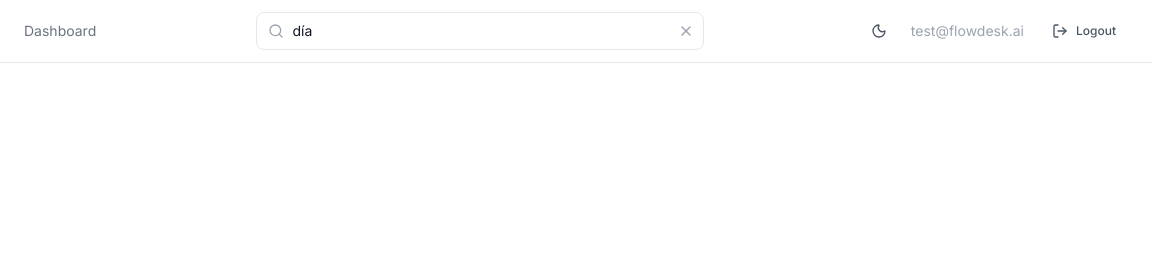
Test: Header › closes dropdown on Escape
Focus the field named "Buscar en el inbox" at {"x": 480, "y": 31}, box x1=256 y1=12 x2=704 y2=50
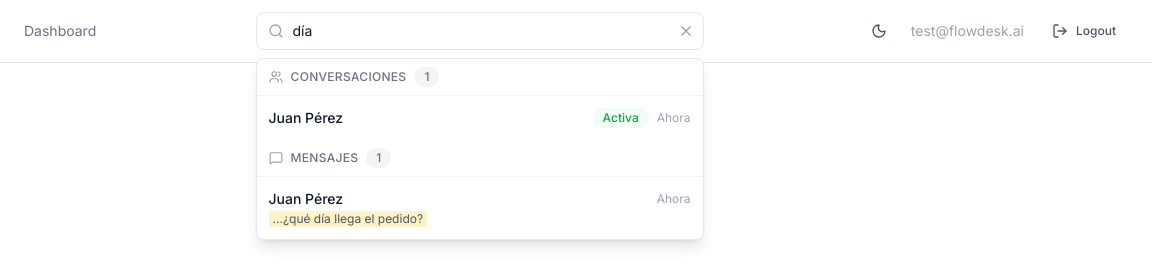
Now the list is shown, box x1=256 y1=58 x2=704 y2=240
Press Escape in the field named "Buscar en el inbox", box x1=256 y1=12 x2=704 y2=50
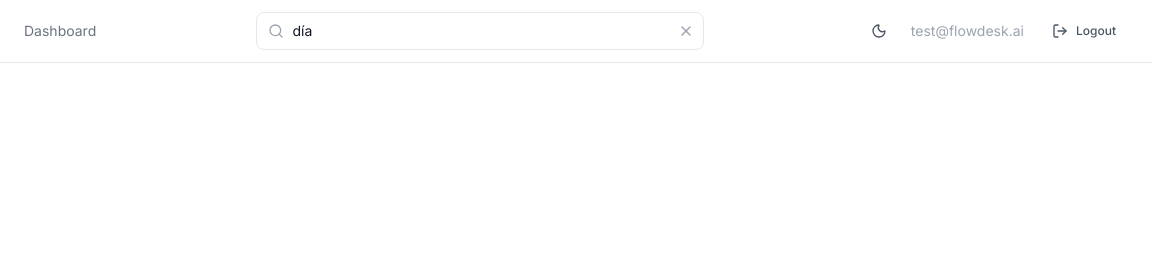
Now the list is gone
